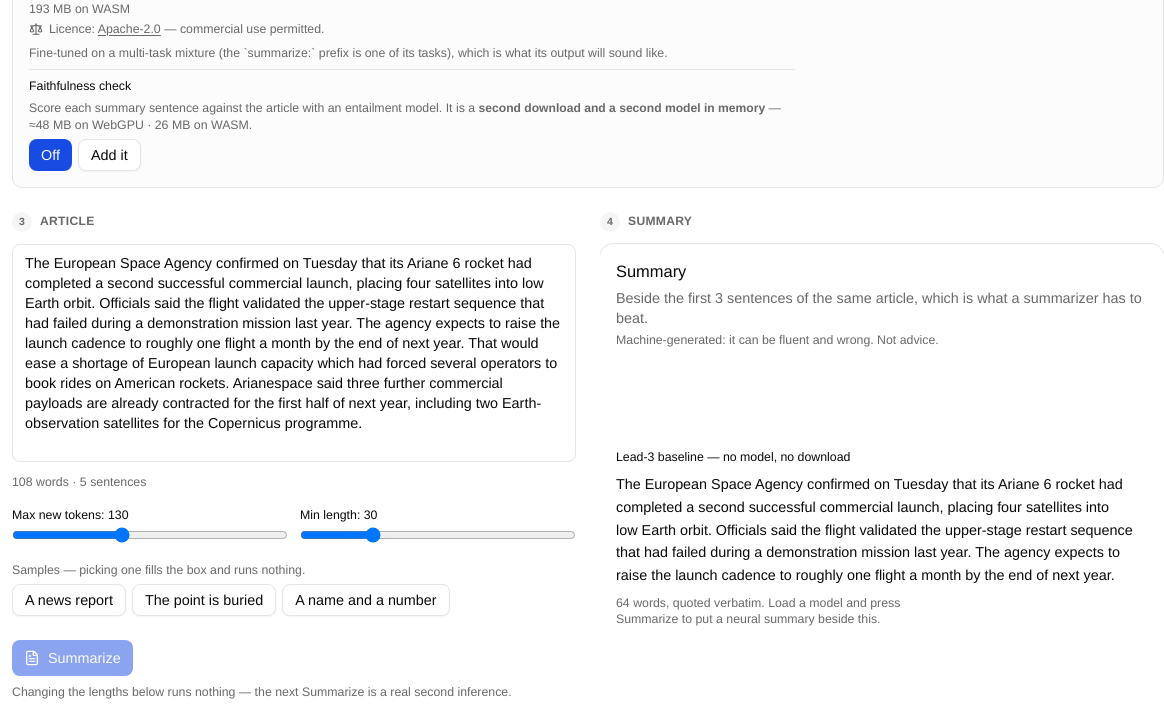
Test: SummarizationPage › re-derives the baseline as the article is edited, running nothing
(page scrolled)
Replace the text in the text box with "One. Two. Three. Four should not appear.": (294, 353) x1=12 y1=244 x2=576 y2=462
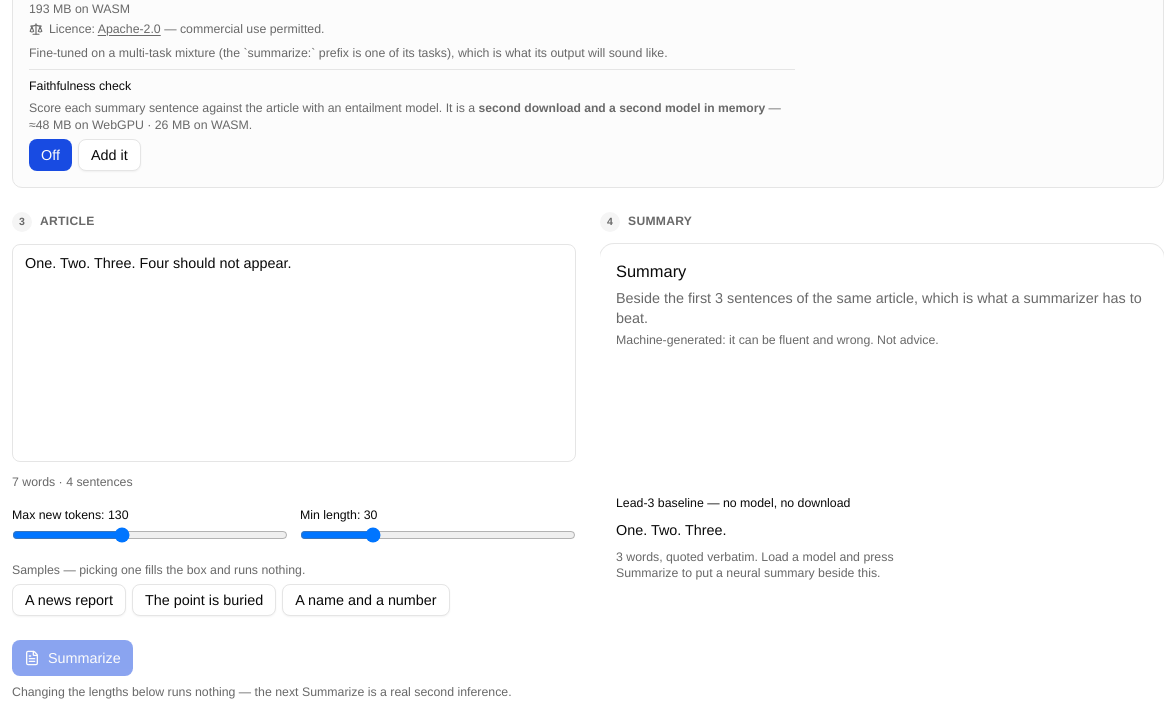
Expected: the text with test id "baseline-preview" does not show "Four should not appear", x1=616 y1=521 x2=726 y2=539
Expected: the text with test id "baseline-preview" reads "One. Two. Three.", x1=616 y1=521 x2=726 y2=539
